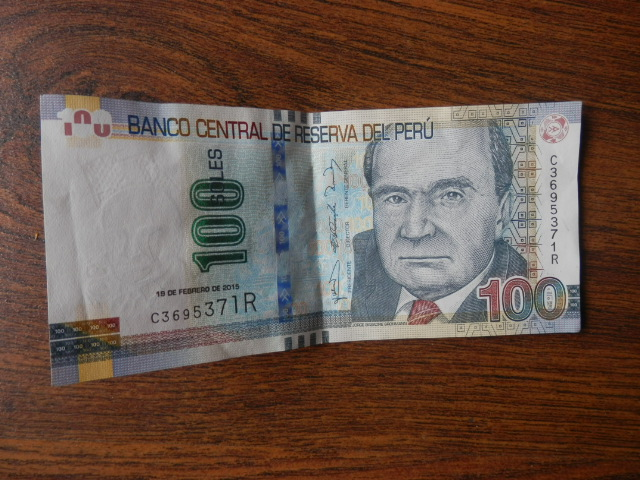B100: (36, 92, 612, 363)
